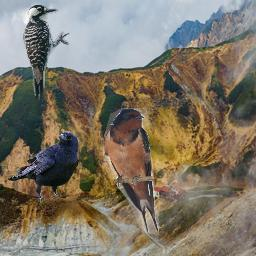Crow: (7, 131, 79, 203)
Swallow: (103, 108, 159, 235)
Woodpecker: (22, 4, 71, 101)
